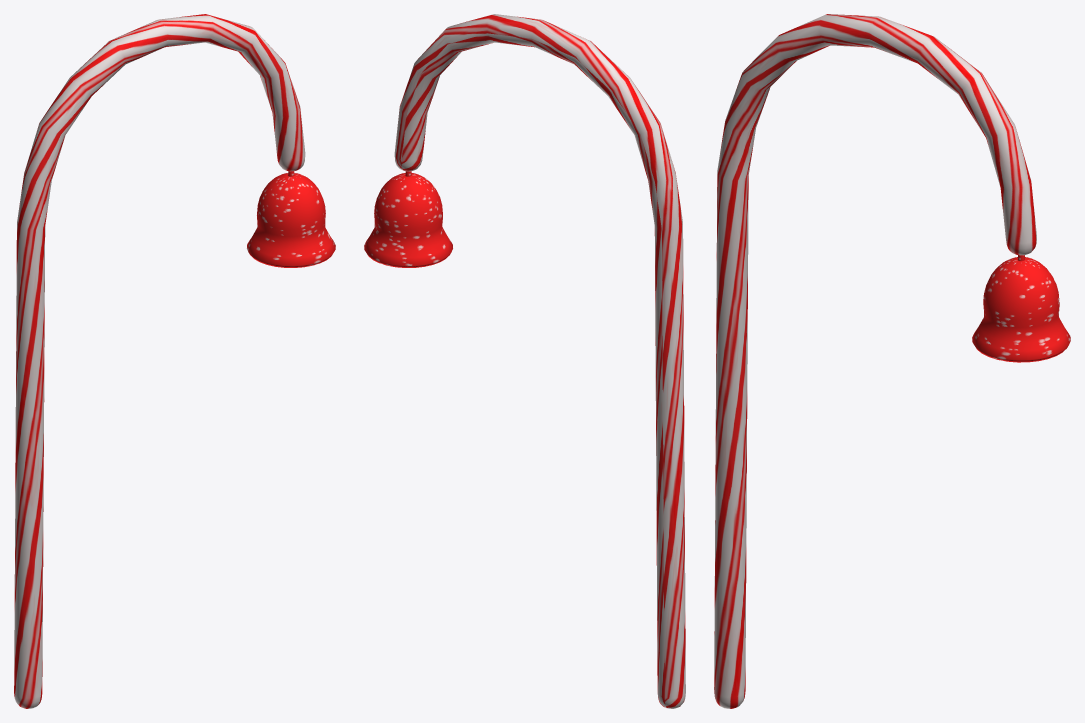
Rendered from PosteDeluz-Dulce.fbx.
The picture shows the model from 3 angles, left to right: view 1: azimuth 30°, elevation 25°; view 2: azimuth 150°, elevation 25°; view 3: azimuth 330°, elevation 25°; orthographic projection. The views are drawn at different scales.
Visible parts, largest first — view 1: Poste_Caramelo; view 2: Poste_Caramelo; view 3: Poste_Caramelo.
Boxes of the visible parts, x1=… form: Poste_Caramelo: x1=14, y1=14, x2=335, y2=708; Poste_Caramelo: x1=364, y1=14, x2=685, y2=708; Poste_Caramelo: x1=714, y1=14, x2=1070, y2=708.
Size of the model in its own units: 258 by 514 by 63.55.
